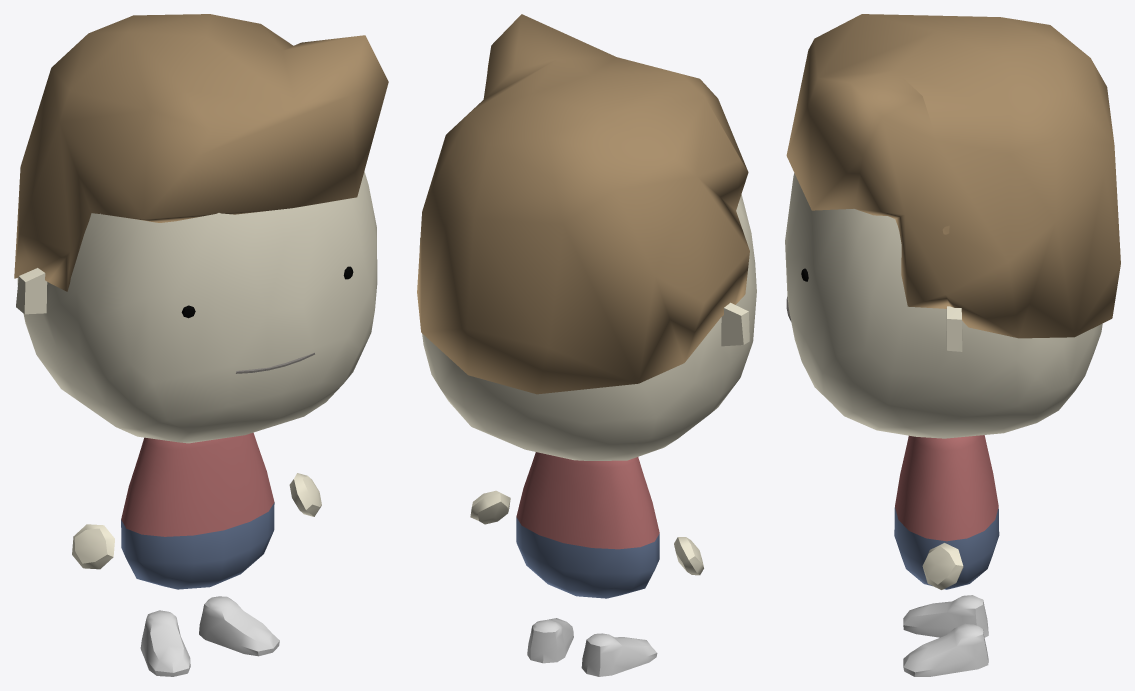
File: MakerLab_Avatar_Test_Static.gltf
The picture shows the model from 3 angles, left to right: view 1: azimuth 30°, elevation 25°; view 2: azimuth 150°, elevation 25°; view 3: azimuth 270°, elevation 25°; orthographic projection. The views are drawn at different scales.
Parts seen in each view (by area): view 1: Cube, HAIR 01, BODY UPPER, BODY LOWER, FOOT L, FOOT R, HAND R, HAND L; view 2: HAIR 01, Cube, BODY UPPER, BODY LOWER, FOOT R, FOOT L, HAND L, HAND R; view 3: HAIR 01, Cube, BODY UPPER, BODY LOWER, FOOT L, FOOT R, HAND L.
Part boxes in pixels (box(x1,y1,x2,y2)): Cube: box(16, 171, 377, 443); HAIR 01: box(14, 14, 388, 291); BODY UPPER: box(121, 432, 274, 536); BODY LOWER: box(121, 502, 274, 589); FOOT L: box(199, 596, 279, 656); FOOT R: box(140, 610, 190, 676); HAND R: box(72, 524, 114, 569); HAND L: box(289, 473, 321, 516); HAIR 01: box(417, 14, 749, 394); Cube: box(419, 194, 756, 460); BODY UPPER: box(516, 452, 659, 549); BODY LOWER: box(516, 517, 659, 598); FOOT R: box(581, 633, 657, 676); FOOT L: box(527, 618, 573, 663); HAND L: box(470, 490, 510, 524); HAND R: box(674, 537, 703, 575); HAIR 01: box(786, 14, 1120, 338); Cube: box(785, 173, 1102, 438); BODY UPPER: box(895, 435, 998, 541); BODY LOWER: box(894, 507, 999, 589); FOOT L: box(903, 623, 988, 676); FOOT R: box(903, 595, 988, 637); HAND L: box(922, 543, 963, 589).
Bounding box in the file's own units: 219 × 373 × 183.
